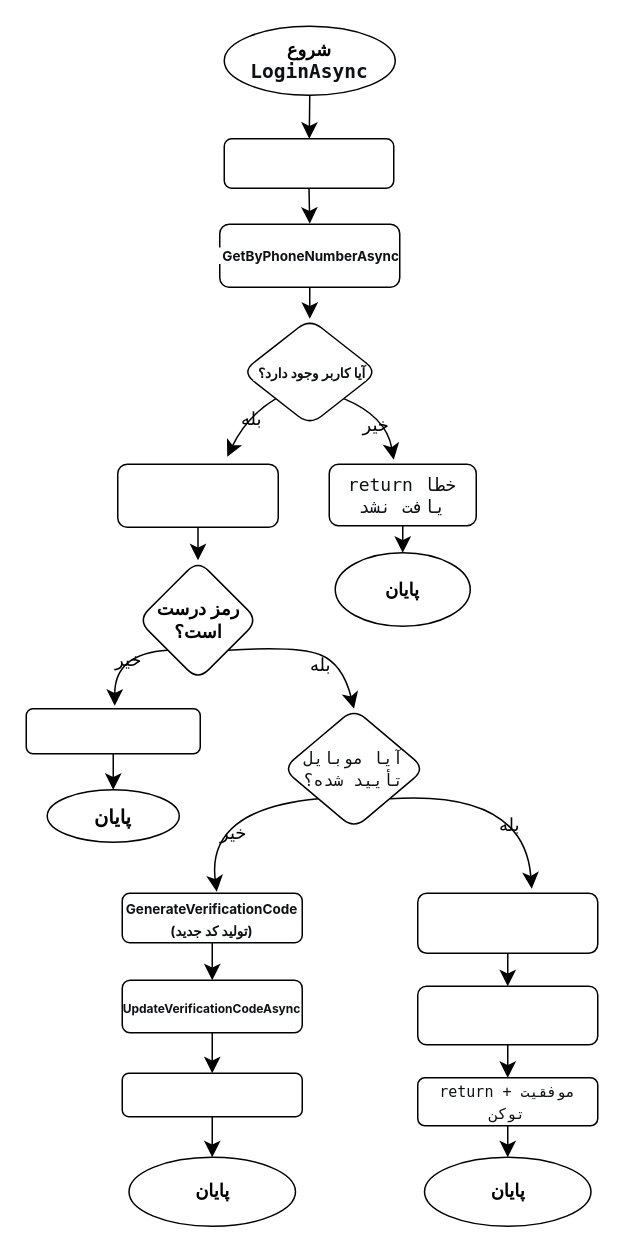
This 624x1253 diagram has some shape labels left out. The shapes that lost their labels are listed below. From the top down, each one's centre as x and y in pixels, then its label:
At point 308,162: "دریافت موبایل ورمز LoginDto".
At point 197,495: "VerifyPassword (بررسی رمز)".
At point 112,730: "return خطا رمز نادرست".
At point 507,922: "UpdateLastLoginAsync".
At point 507,1015: "GenerateTokenAsync".
At point 211,1094: "return خطا کد جدید".
